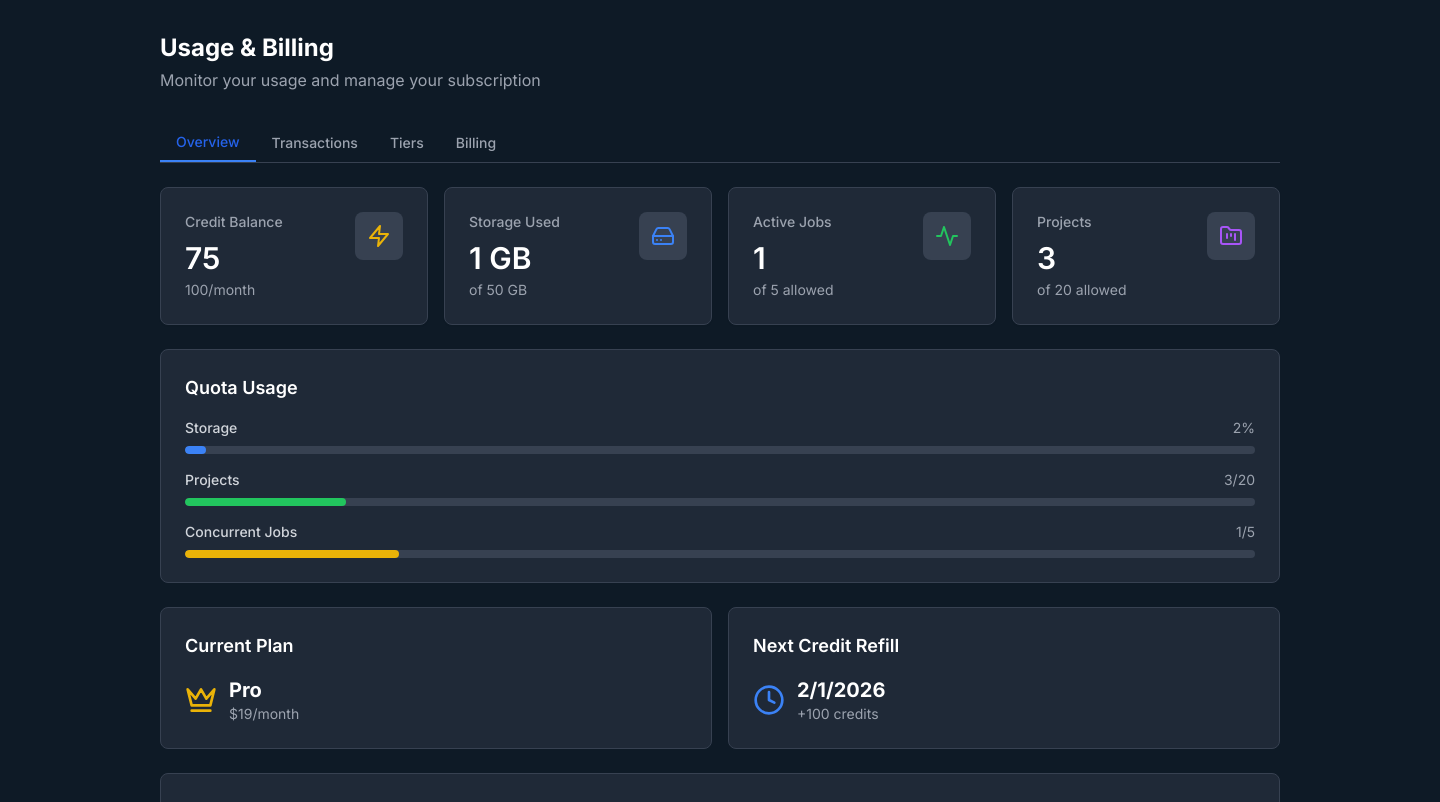
Scenario: UsageBillingPage › Tabs Navigation › switches to transactions tab
Check: the button "Overview" is shown, box [160,124,256,162]
Click the button "Transactions" at (315, 143), box [256,124,374,162]
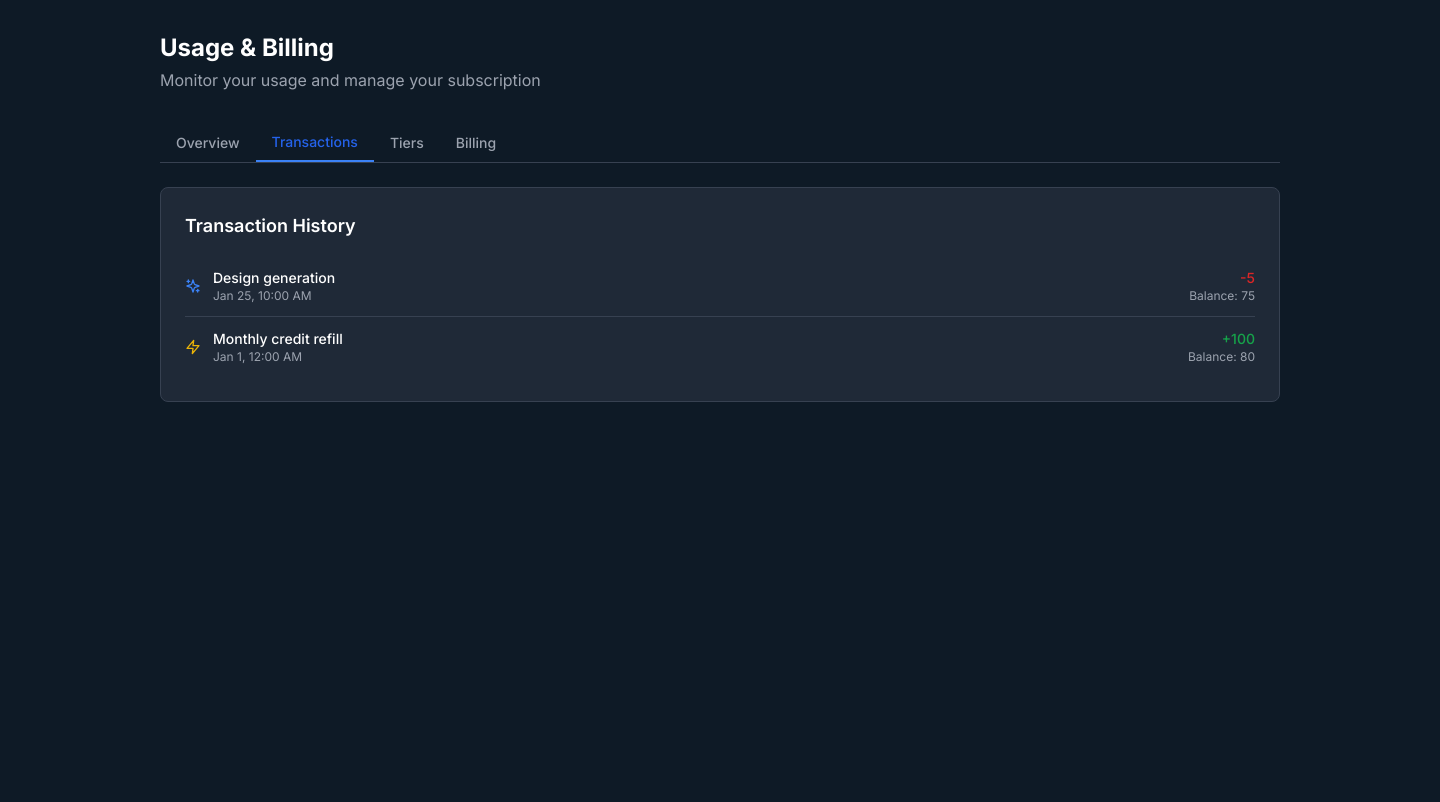
Check: the heading "Transaction History" is shown, box [185,215,356,236]
